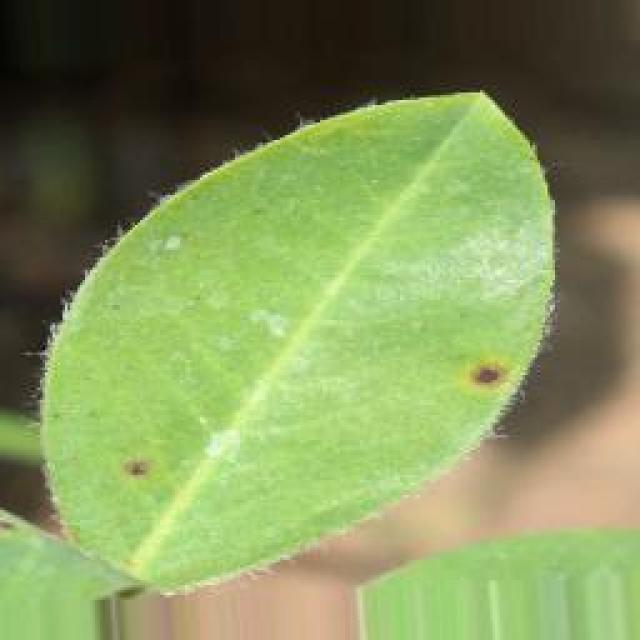Sigatoka: (453, 326, 543, 414), (98, 438, 174, 503)
